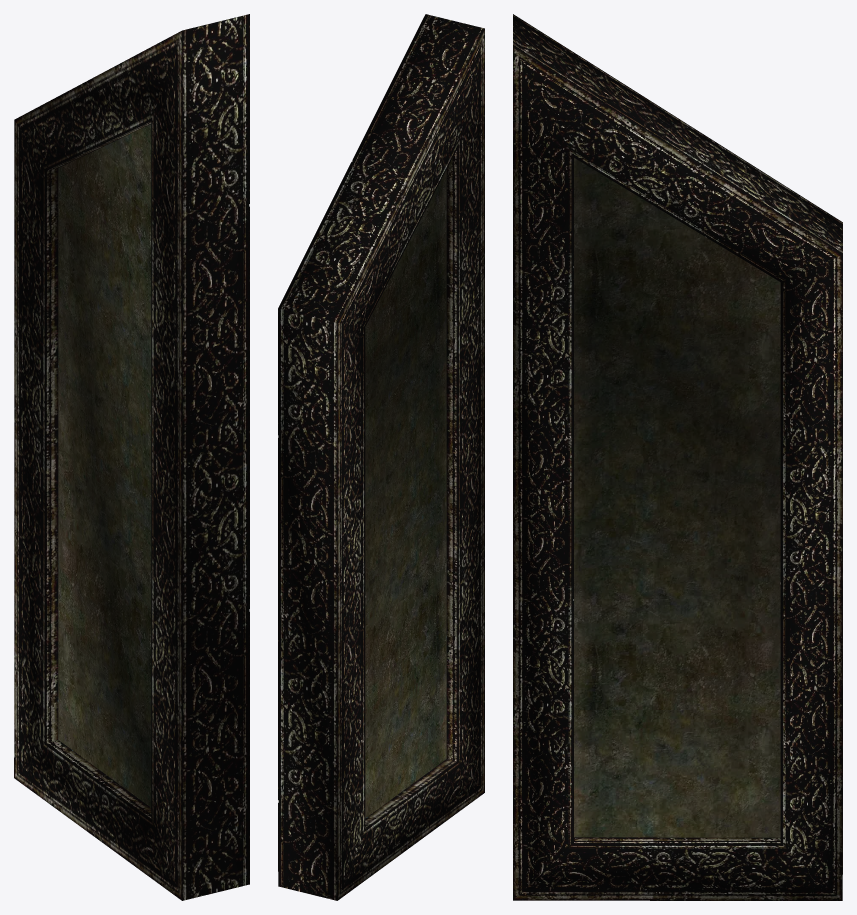
The model's file is KM_VOB_GATE_02_LEFT.glb.
The picture shows the model from 3 angles, left to right: view 1: azimuth 30°, elevation 25°; view 2: azimuth 150°, elevation 25°; view 3: azimuth 270°, elevation 25°; orthographic projection. The views are drawn at different scales.
Parts seen in each view (by area): view 1: Mesh; view 2: Mesh; view 3: Mesh.
Boxes of the visible parts, <box> form: Mesh: <box>14,14,249,900</box>; Mesh: <box>278,14,484,900</box>; Mesh: <box>513,14,842,900</box>.
Size of the model in its own units: 0.4786 by 5.87 by 2.05.
2 materials, 2 textured.
